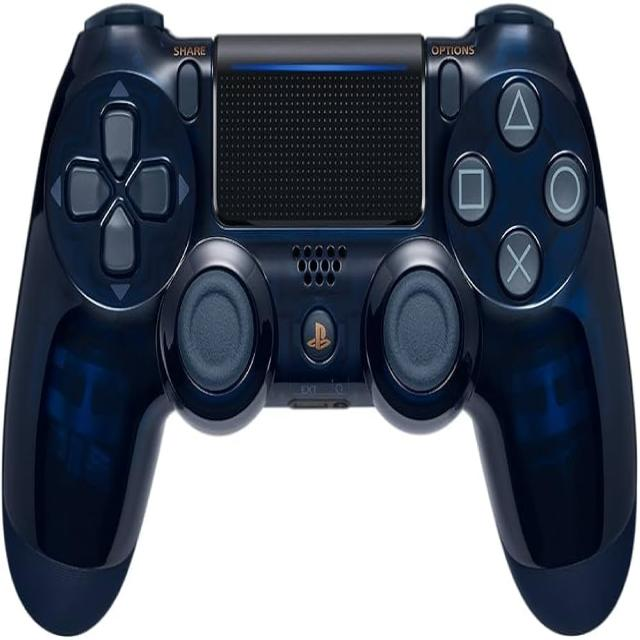ps4_controller: (11, 8, 640, 639)
